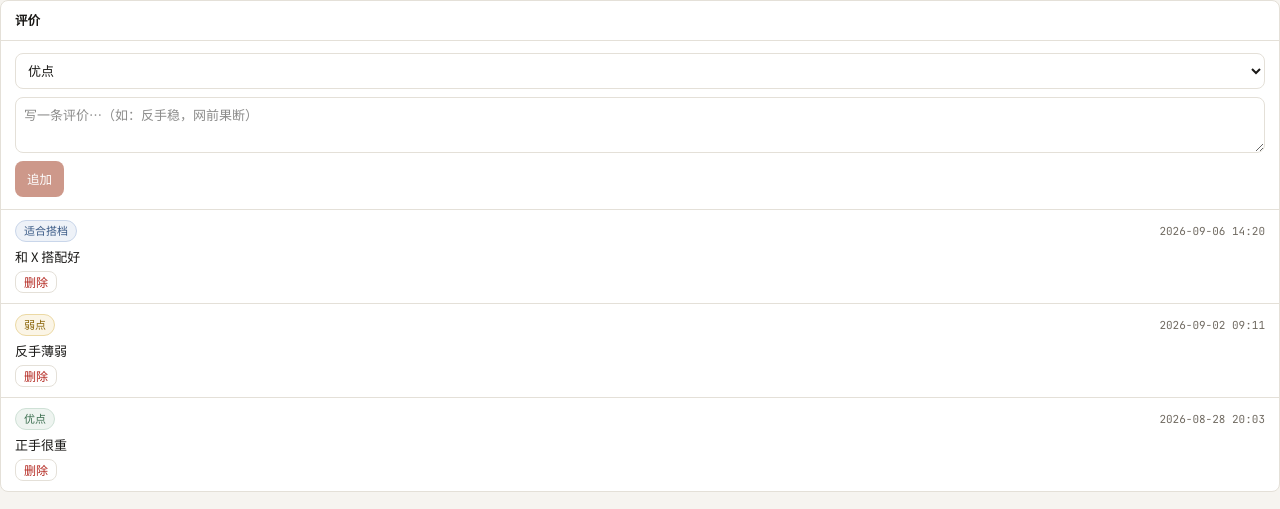
NotesSection append form › disables 追加 until the body has text
The width and height of the screenshot is (1280, 509).
Expected: the button "追加" is disabled, [15,161,64,197]
Type "网前果断" into the text box at (640, 125), box [15,97,1265,153]
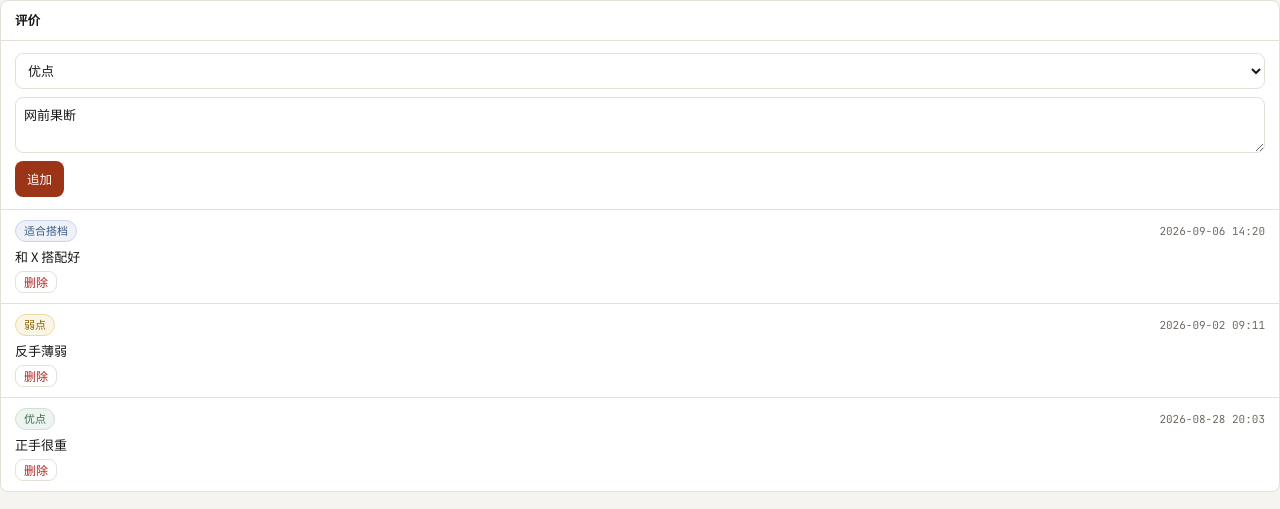
Result: the button "追加" is enabled at [15,161,64,197]
